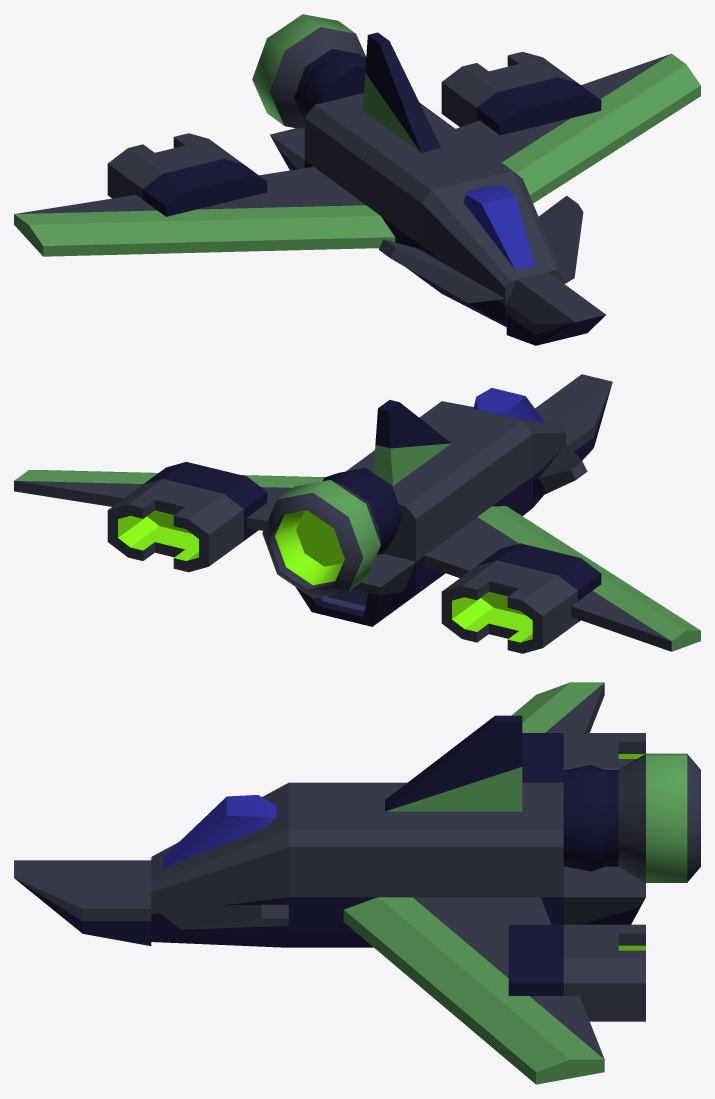
File: TempSoachip_recolor_V1.fbx
3 views of the same model, one above another, from view 1: azimuth 30°, elevation 25°; view 2: azimuth 150°, elevation 25°; view 3: azimuth 270°, elevation 25° (orthographic). The views are drawn at different scales.
Parts seen in each view (by area): view 1: mergedBlocks; view 2: mergedBlocks; view 3: mergedBlocks.
Boxes of the visible parts, x1,y1,x2,y2 form: mergedBlocks: (14,14,700,345); mergedBlocks: (14,374,700,653); mergedBlocks: (14,682,700,1084).
Bounding box in the file's own units: 65 × 17 × 50.
